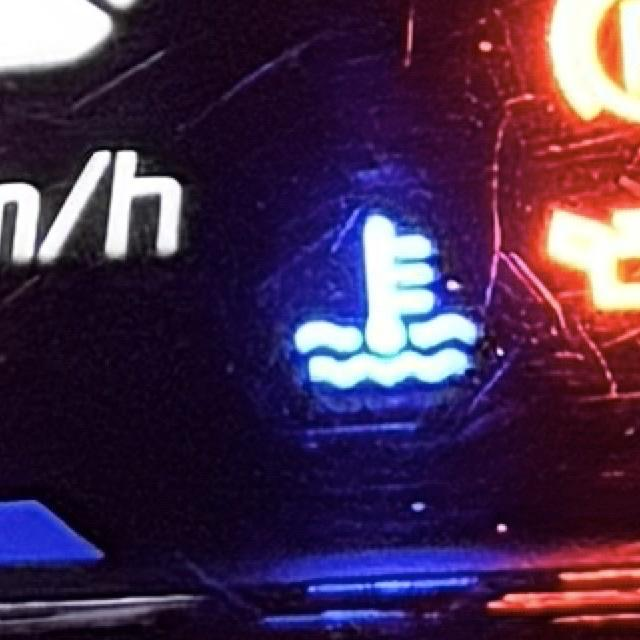High Engine Temperature: (291, 212, 484, 396)
